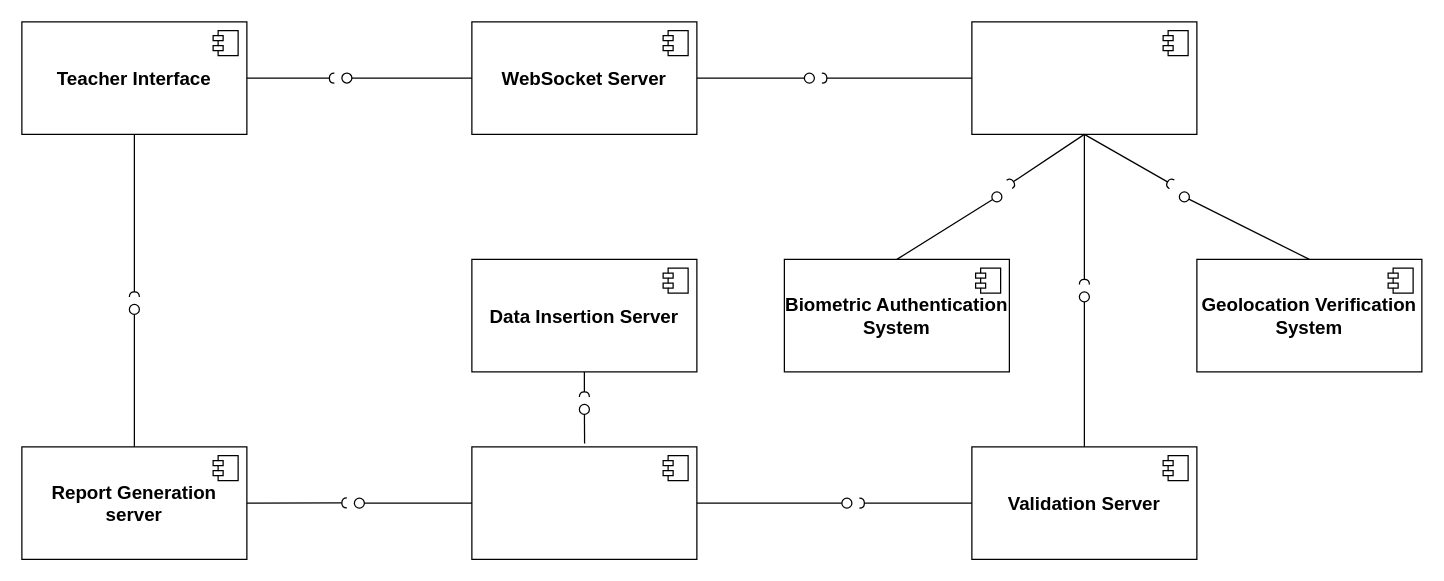
Some shapes in this 1444 by 581 pixel diagram are drawn without their labels. Here are the shapes that lost their labels. From the top down, the centre of each, then its label:
At point 1084,77: "Student Interface".
At point 584,502: "Database".
